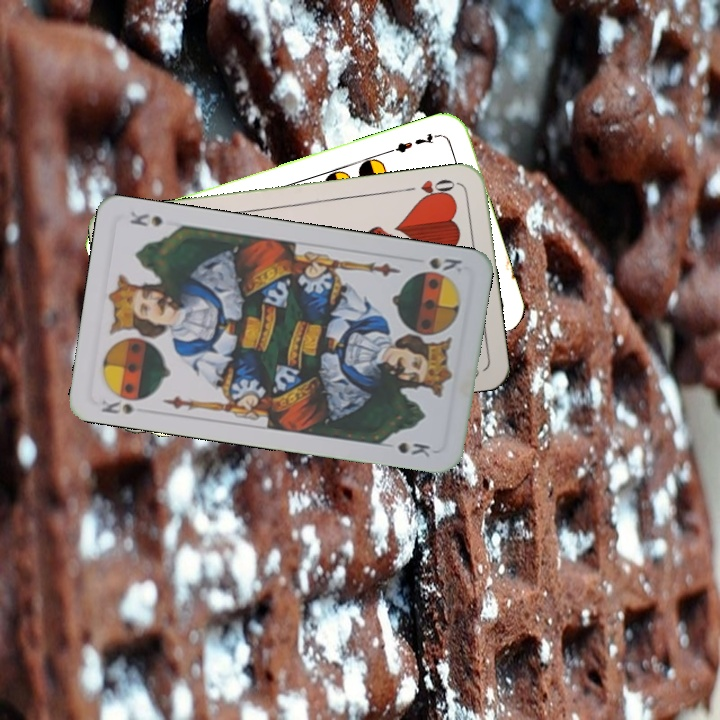E7: (385, 129, 443, 156)
HO: (401, 175, 460, 203)
SK: (97, 395, 139, 417), (425, 253, 465, 275)
